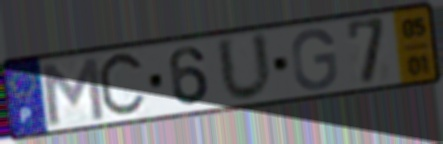6: (166, 46, 211, 107)
7: (342, 16, 389, 88)
C: (94, 48, 149, 123)
G: (289, 26, 340, 93)
M: (36, 55, 108, 129)
U: (213, 29, 276, 105)
